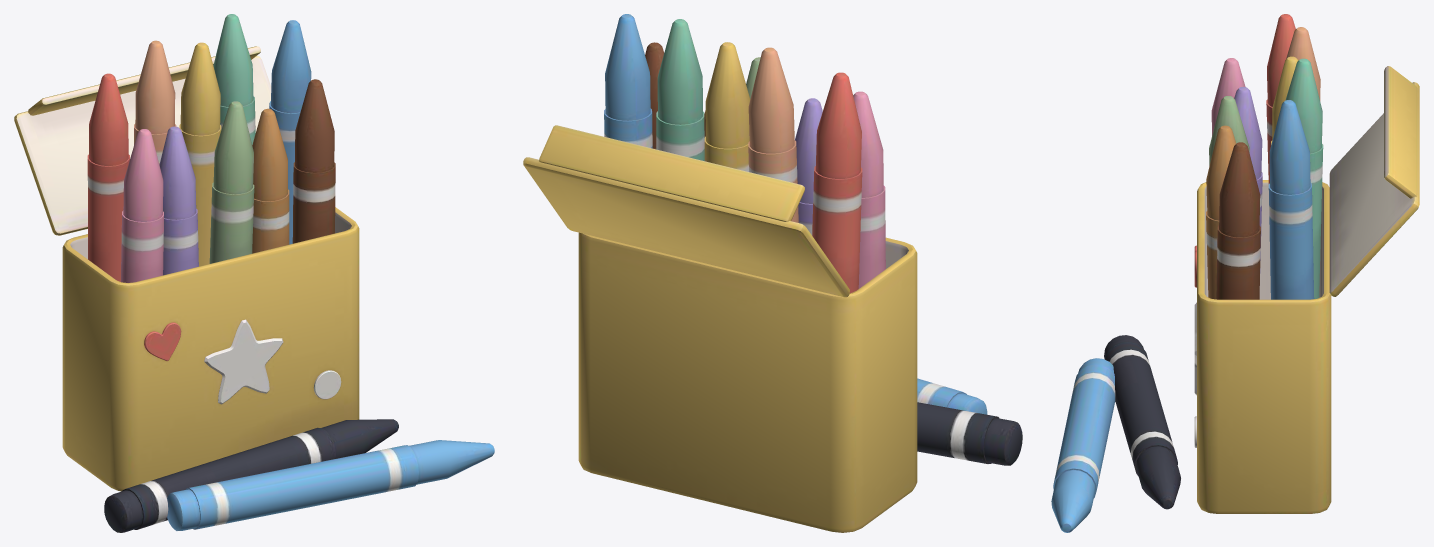
File: ceras.glb
3 views of the same model, side by side, from view 1: azimuth 30°, elevation 25°; view 2: azimuth 150°, elevation 25°; view 3: azimuth 270°, elevation 25° (orthographic). The views are drawn at different scales.
Visible parts, largest first — view 1: crayon-set_body; view 2: crayon-set_body; view 3: crayon-set_body.
Part boxes in pixels (bbox=[...]): crayon-set_body: bbox=[14, 14, 494, 532]; crayon-set_body: bbox=[523, 14, 1022, 532]; crayon-set_body: bbox=[1051, 14, 1419, 532].
Size of the model in its own units: 0.106 by 0.116 by 0.0932.
Materials: 1 (1 with a texture image).
